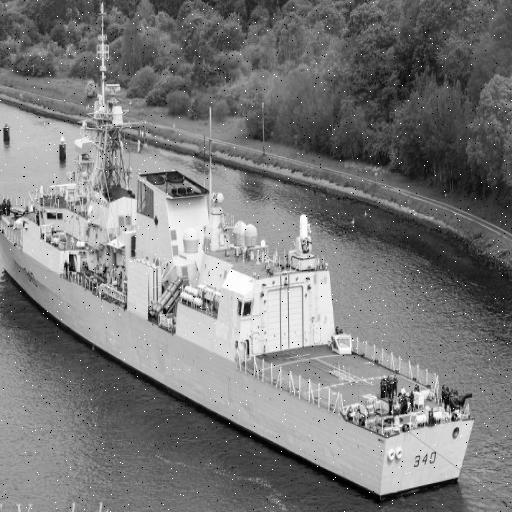Fragata: (1, 1, 477, 507)
